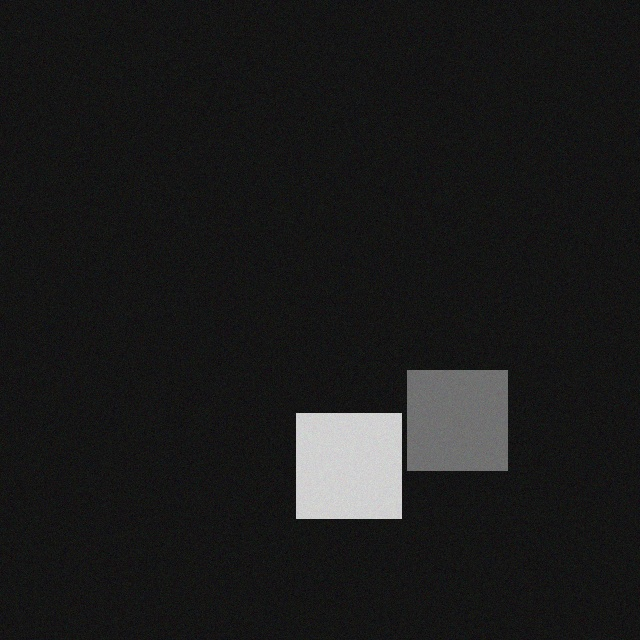square: (289, 407, 394, 512), (400, 364, 500, 464)
